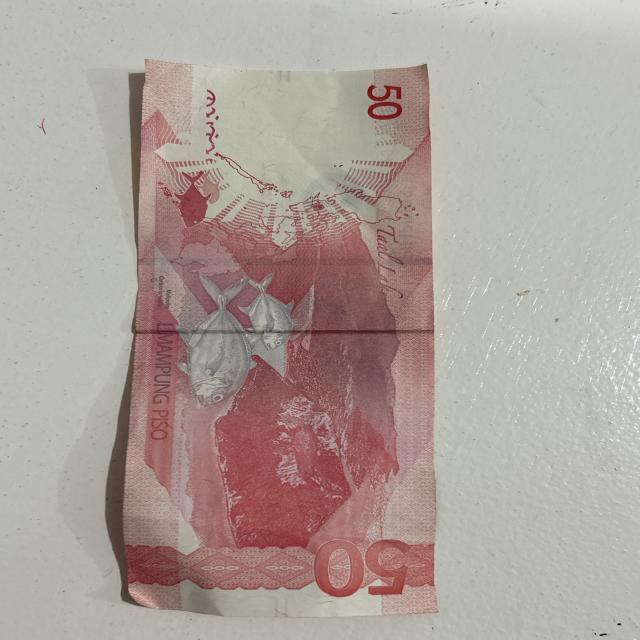security_thread: (133, 246, 432, 277)
see_through_mark: (195, 86, 232, 174)
value: (304, 532, 416, 606)
